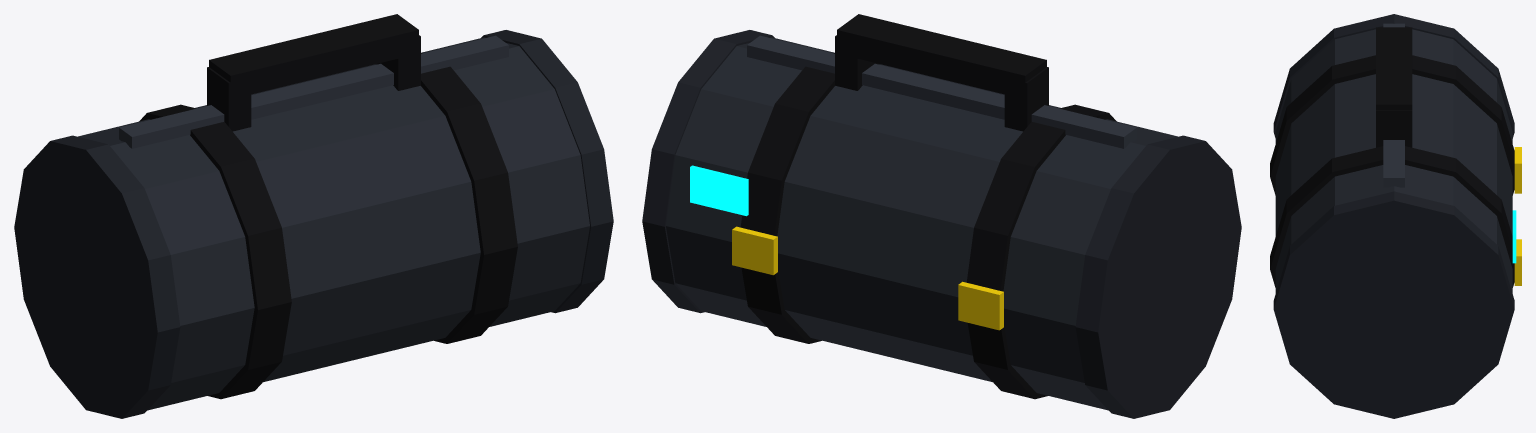
File: Prop_LootBag.fbx
The picture shows the model from 3 angles, left to right: view 1: azimuth 30°, elevation 25°; view 2: azimuth 150°, elevation 25°; view 3: azimuth 270°, elevation 25°; orthographic projection. The views are drawn at different scales.
Parts seen in each view (by area): view 1: Prop_LootBag__Fabric, Prop_LootBag__DarkMetal, Prop_LootBag__Rubber, Prop_LootBag__SteelPanel; view 2: Prop_LootBag__Fabric, Prop_LootBag__DarkMetal, Prop_LootBag__Rubber, Prop_LootBag__SteelPanel, Prop_LootBag__NeonGold, Prop_LootBag__NeonCyan; view 3: Prop_LootBag__DarkMetal, Prop_LootBag__Fabric, Prop_LootBag__Rubber, Prop_LootBag__SteelPanel, Prop_LootBag__NeonGold, Prop_LootBag__NeonCyan.
Boxes of the visible parts, x1,y1,x2,y2 form: Prop_LootBag__Fabric: (78,37,589,410); Prop_LootBag__DarkMetal: (14,30,613,418); Prop_LootBag__Rubber: (139,14,517,399); Prop_LootBag__SteelPanel: (119,35,508,148); Prop_LootBag__Fabric: (666,37,1177,410); Prop_LootBag__DarkMetal: (642,30,1241,418); Prop_LootBag__Rubber: (740,14,1116,399); Prop_LootBag__SteelPanel: (747,35,1136,148); Prop_LootBag__NeonGold: (732,226,1003,330); Prop_LootBag__NeonCyan: (690,165,748,216); Prop_LootBag__DarkMetal: (1273,14,1514,418); Prop_LootBag__Fabric: (1275,29,1512,292); Prop_LootBag__Rubber: (1270,27,1514,287); Prop_LootBag__SteelPanel: (1383,23,1404,187); Prop_LootBag__NeonGold: (1514,147,1521,285); Prop_LootBag__NeonCyan: (1512,210,1516,263).
Bounding box in the file's own units: 2.42 × 1.59 × 1.38.
